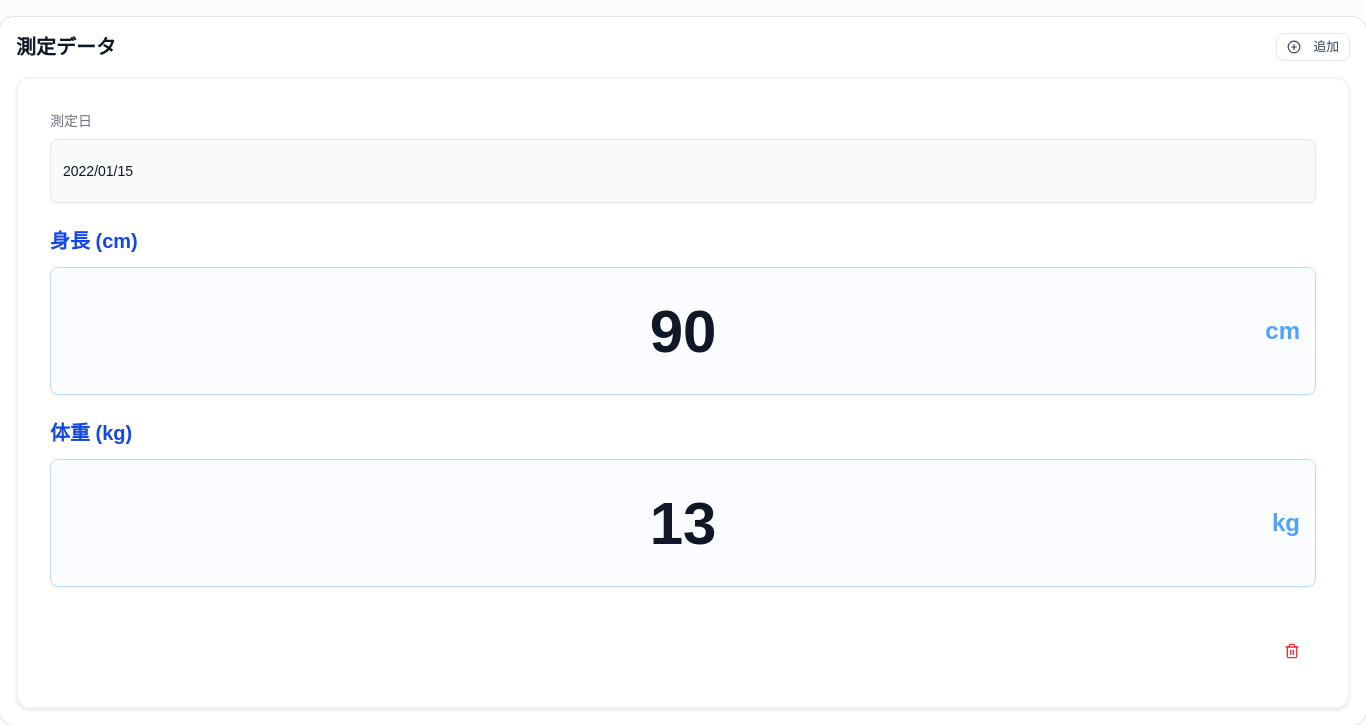
GrowthForm Component Integration / E2E Tests › synchronizes an empty measurement array when the final row is deleted
(page scrolled)
Click the button named "2022/01/15の測定データを削除" at (1292, 651), box [1268,627,1316,675]
(page scrolled)
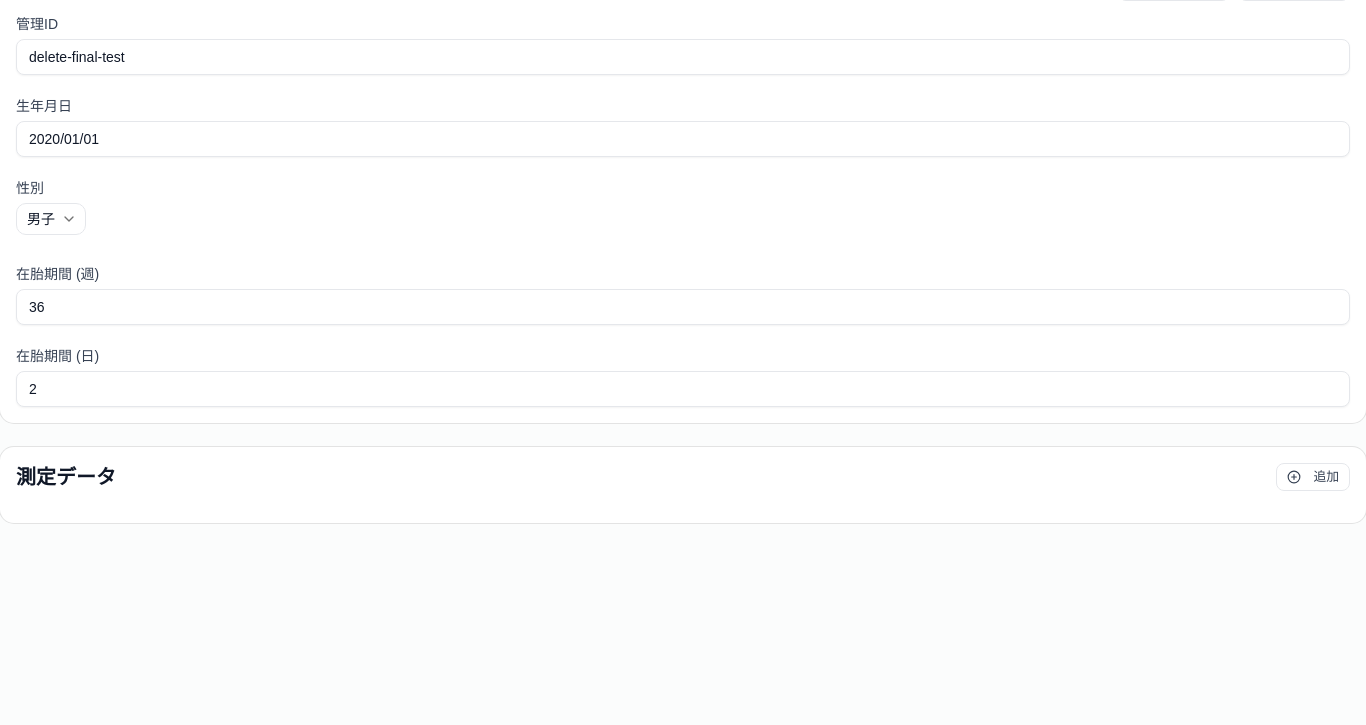
Check: the button "2022/01/15の測定データを削除" is gone
